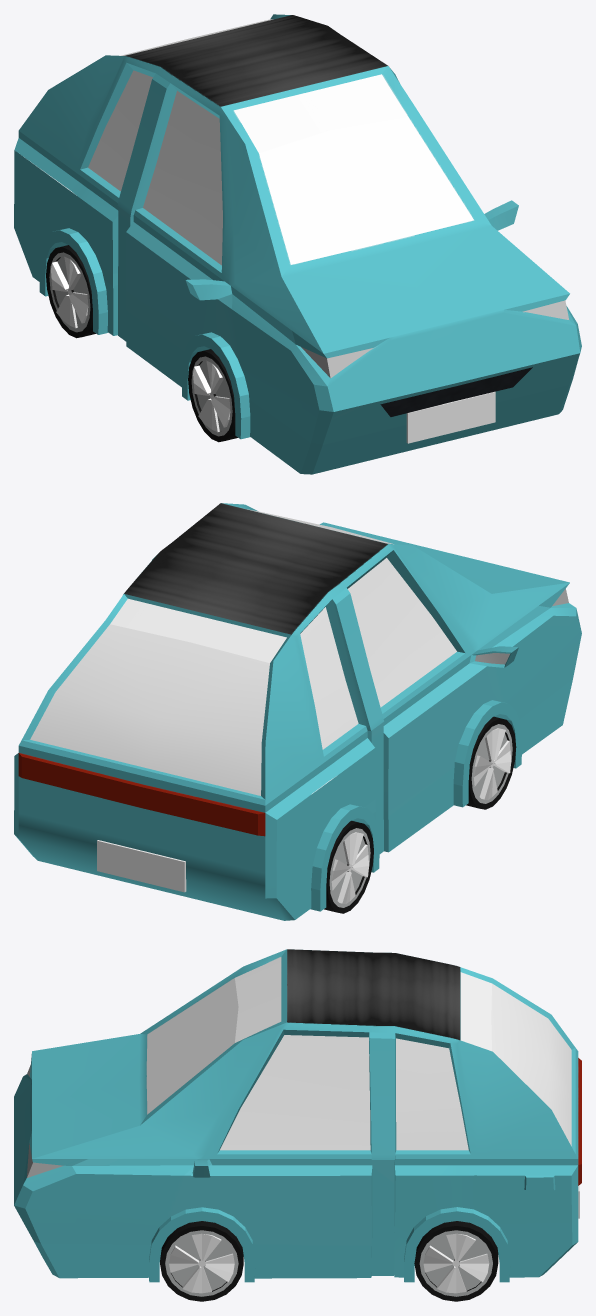
File: EV-fTYbMiUq.glb
The picture shows the model from 3 angles, top to bottom: view 1: azimuth 30°, elevation 25°; view 2: azimuth 150°, elevation 25°; view 3: azimuth 270°, elevation 25°; orthographic projection. The views are drawn at different scales.
Bounding box in the file's own units: 1.98 × 1.65 × 3.34.
Materials: 6 (6 with a texture image).
